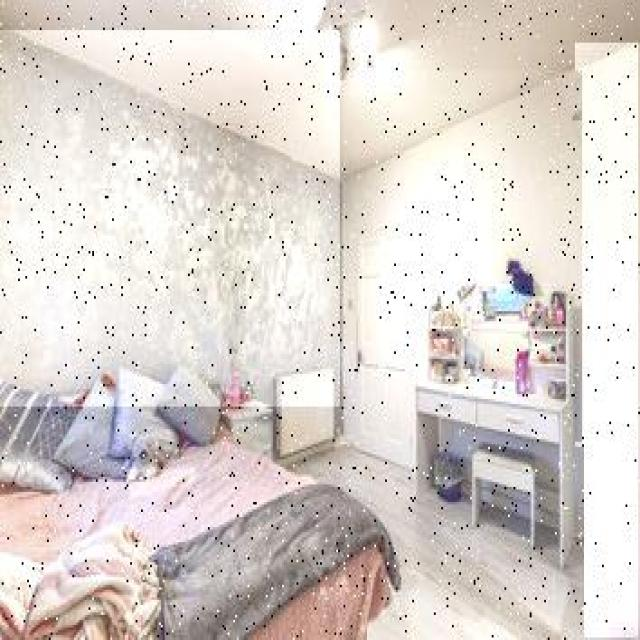Wall: (0, 32, 340, 407), (0, 0, 640, 176), (344, 72, 582, 442), (290, 447, 584, 637), (576, 44, 638, 637)
